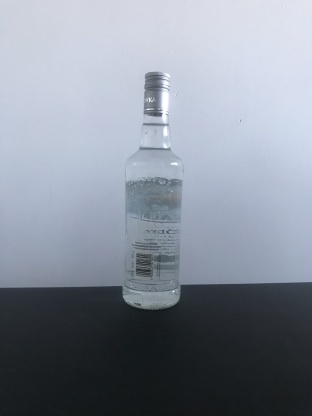nakretka: (142, 69, 171, 117)
